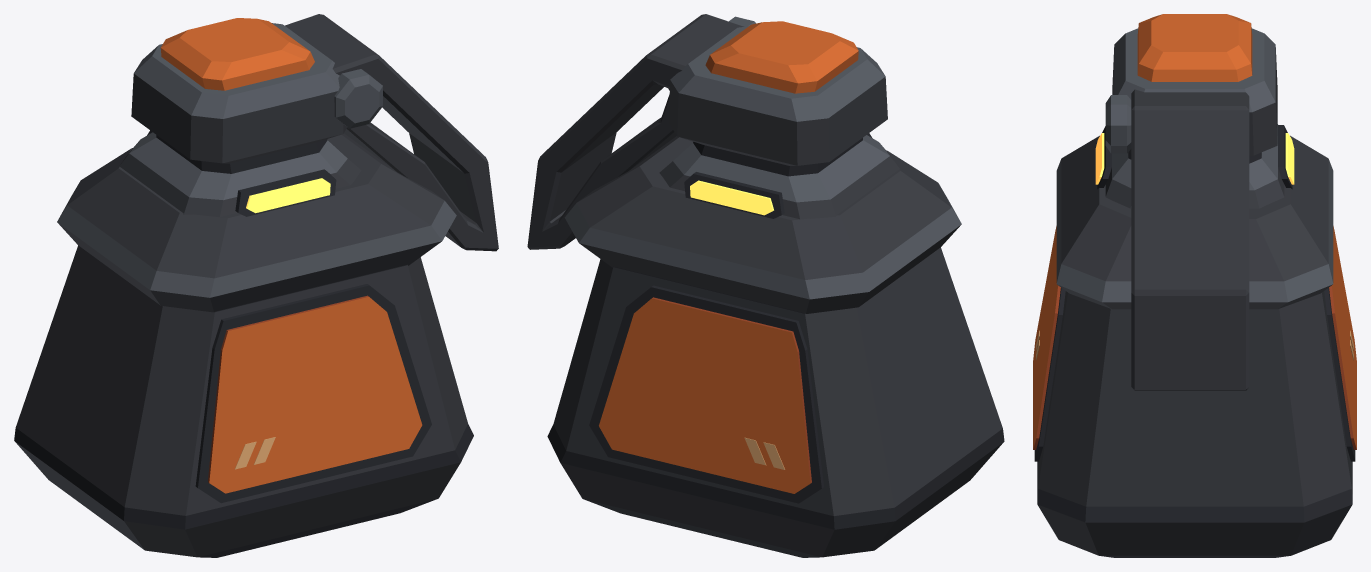
The model's file is Molly.fbx.
3 views of the same model, side by side, from view 1: azimuth 30°, elevation 25°; view 2: azimuth 150°, elevation 25°; view 3: azimuth 270°, elevation 25° (orthographic).
Visible parts, largest first — view 1: Body_Charcoal shell, HeatPanel_Front_Burnt orange, Band_Charcoal shell, Lever, FuseHead_Charcoal shell, FuseHead_Graphite shoulder, Band_Graphite shoulder, Body_Recess, PrimePad, PanelSeat_Front, Pin, Fuse_Energy (+3 smaller); view 2: Body_Charcoal shell, HeatPanel_Back_Burnt orange, Band_Charcoal shell, Lever, FuseHead_Charcoal shell, FuseHead_Graphite shoulder, Band_Graphite shoulder, Body_Recess, PrimePad, PanelSeat_Back, IndicatorBack_Energy, FuseHead_Recess (+2 smaller); view 3: Body_Charcoal shell, Lever, Band_Charcoal shell, PrimePad, FuseHead_Graphite shoulder, Body_Recess, Band_Graphite shoulder, FuseHead_Charcoal shell, HeatPanel_Back_Burnt orange, HeatPanel_Front_Burnt orange, Pin, PanelSeat_Back (+6 smaller).
Boxes of the visible parts, left/top/right/bottom form: Body_Charcoal shell: left=15, top=245, right=467, bottom=557; HeatPanel_Front_Burnt orange: left=209, top=297, right=422, bottom=493; Band_Charcoal shell: left=57, top=133, right=444, bottom=312; Lever: left=285, top=14, right=498, bottom=251; FuseHead_Charcoal shell: left=119, top=74, right=361, bottom=217; FuseHead_Graphite shoulder: left=129, top=23, right=347, bottom=200; Band_Graphite shoulder: left=57, top=184, right=456, bottom=297; Body_Recess: left=14, top=264, right=473, bottom=557; PrimePad: left=160, top=18, right=314, bottom=90; PanelSeat_Front: left=195, top=284, right=431, bottom=503; Pin: left=334, top=69, right=382, bottom=128; Fuse_Energy: left=246, top=178, right=330, bottom=213; Body_Charcoal shell: left=553, top=247, right=1003, bottom=557; HeatPanel_Back_Burnt orange: left=599, top=298, right=810, bottom=493; Band_Charcoal shell: left=577, top=136, right=960, bottom=313; Lever: left=527, top=14, right=743, bottom=249; FuseHead_Charcoal shell: left=659, top=77, right=899, bottom=219; FuseHead_Graphite shoulder: left=670, top=26, right=889, bottom=202; Band_Graphite shoulder: left=564, top=188, right=961, bottom=299; Body_Recess: left=547, top=266, right=1004, bottom=557; PrimePad: left=705, top=21, right=858, bottom=93; PanelSeat_Back: left=589, top=285, right=823, bottom=503; IndicatorBack_Energy: left=690, top=180, right=773, bottom=215; FuseHead_Recess: left=693, top=138, right=862, bottom=176; Body_Charcoal shell: left=1038, top=291, right=1351, bottom=555; Lever: left=1131, top=89, right=1249, bottom=390; Band_Charcoal shell: left=1057, top=135, right=1332, bottom=309; PrimePad: left=1137, top=14, right=1252, bottom=81; FuseHead_Graphite shoulder: left=1112, top=28, right=1277, bottom=190; Body_Recess: left=1037, top=461, right=1352, bottom=557; Band_Graphite shoulder: left=1056, top=159, right=1333, bottom=302; FuseHead_Charcoal shell: left=1105, top=47, right=1284, bottom=208; HeatPanel_Back_Burnt orange: left=1332, top=226, right=1356, bottom=449; HeatPanel_Front_Burnt orange: left=1033, top=226, right=1057, bottom=449; Pin: left=1105, top=95, right=1131, bottom=153; PanelSeat_Back: left=1324, top=287, right=1355, bottom=461.
Bounding box in the file's own units: 0.4481 × 0.4901 × 0.3149.
